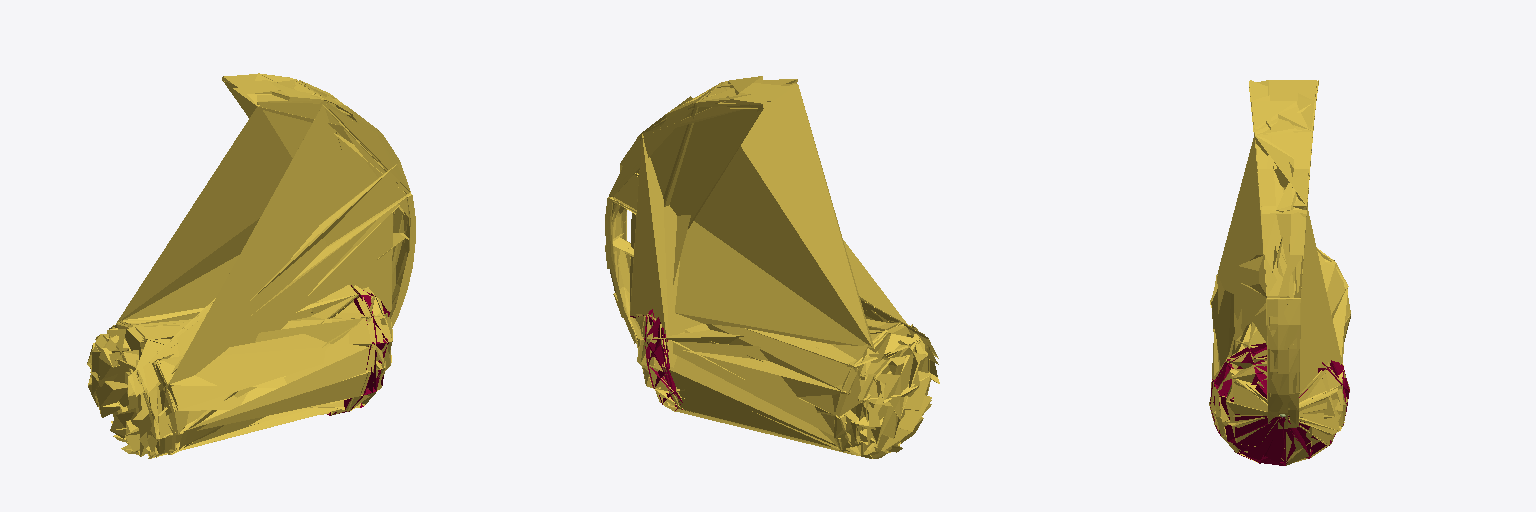
File: Headphone.obj
3 views of the same model, side by side, from view 1: azimuth 30°, elevation 25°; view 2: azimuth 150°, elevation 25°; view 3: azimuth 270°, elevation 25° (orthographic).
Parts seen in each view (by area): view 1: headband; view 2: headband, Speaker_Right; view 3: headband, Speaker_Right, Plush_left.
Part boxes in pixels (bbox=[...]): headband: bbox=[87, 73, 415, 458]; headband: bbox=[605, 76, 939, 458]; Speaker_Right: bbox=[630, 315, 682, 410]; headband: bbox=[1209, 80, 1350, 465]; Speaker_Right: bbox=[1210, 344, 1349, 465]; Plush_left: bbox=[1213, 343, 1349, 458].
Bounding box in the file's own units: 70.53 × 73.41 × 28.12.